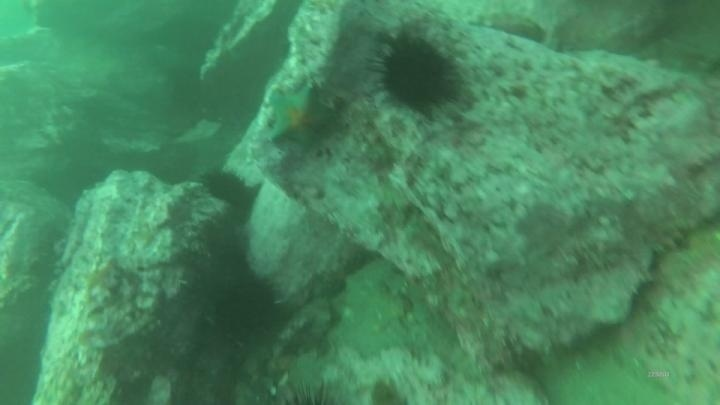echinus: (372, 31, 462, 117), (212, 274, 284, 343), (271, 378, 351, 405), (200, 167, 251, 207)
starfish: (265, 82, 338, 154)
